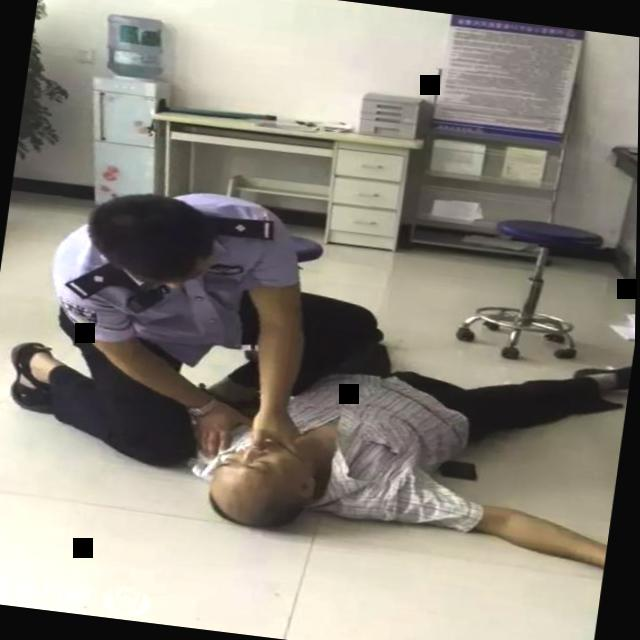Fall-Detected: (164, 286, 637, 584)
